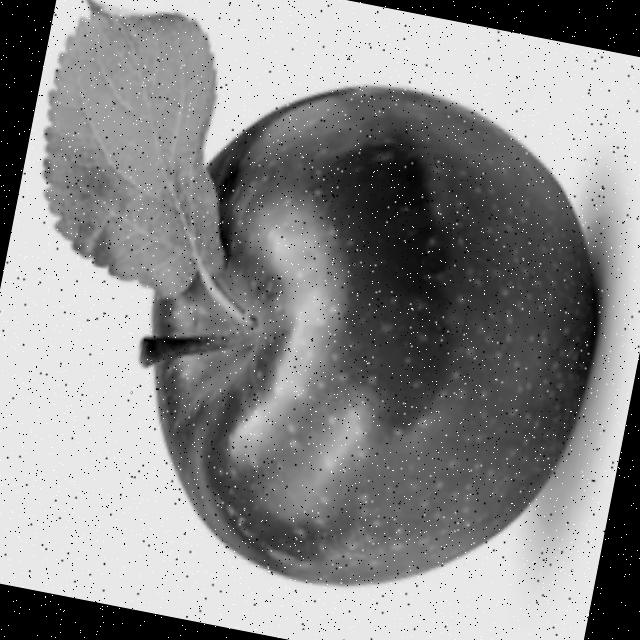Ripe: (95, 38, 640, 639)
